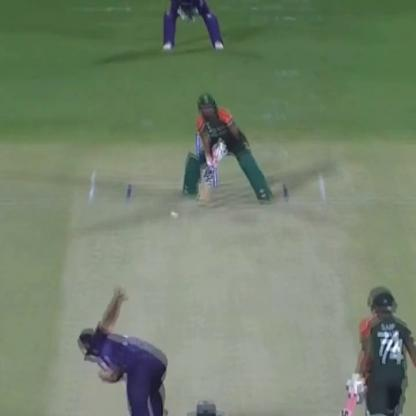ball: (164, 206, 186, 226)
bat: (194, 146, 223, 204), (334, 378, 366, 416)
pitch: (61, 168, 357, 416)
